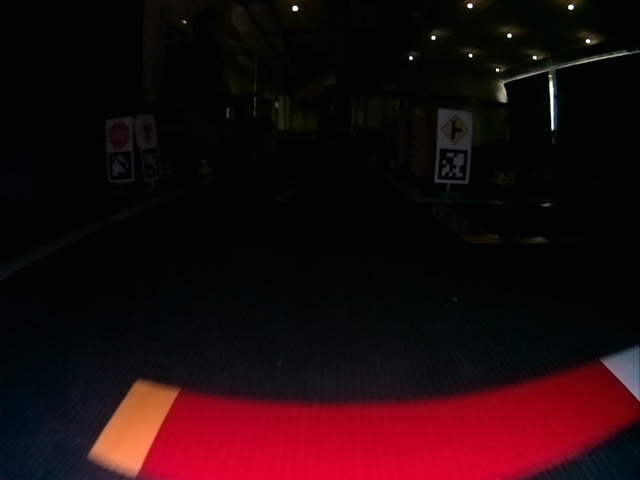Intersection sign: (441, 113, 468, 144)
QR code: (438, 149, 467, 182), (110, 153, 133, 179), (143, 148, 161, 178)
Stop sign: (107, 120, 130, 148)
